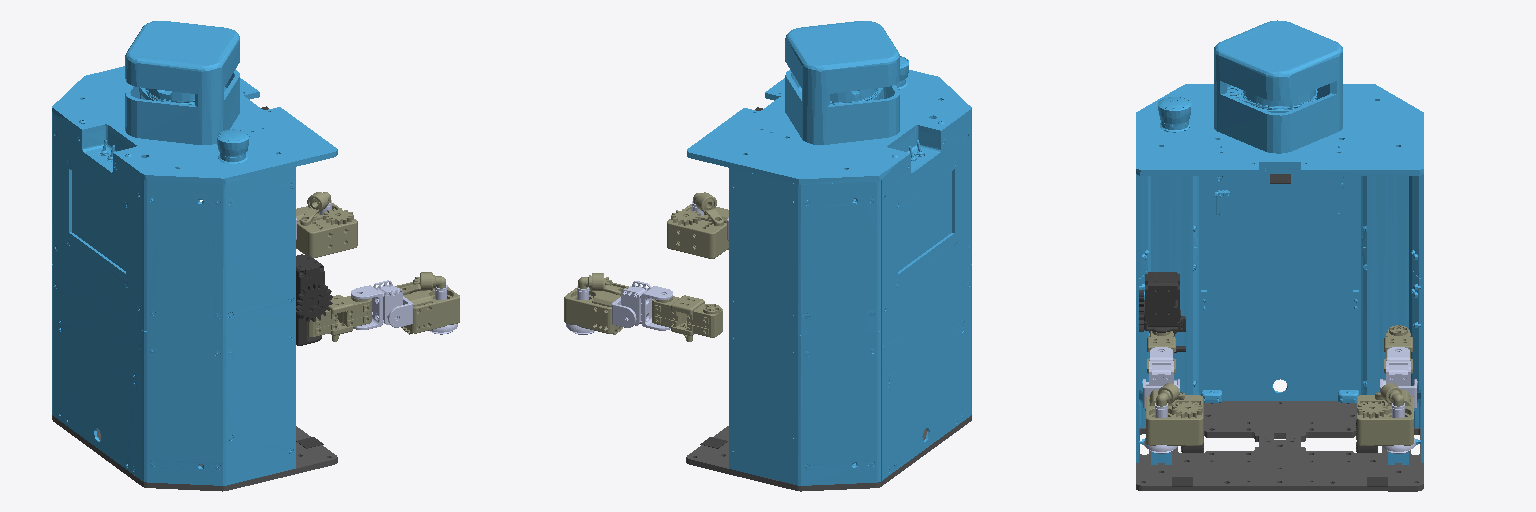
URDF robot description (robotrouge):
<?xml version="1.0" ?>
<!-- =================================================================================== -->
<!-- |    This document was autogenerated by xacro from urdf/robotrouge.urdf.xacro     | -->
<!-- |    EDITING THIS FILE BY HAND IS NOT RECOMMENDED                                 | -->
<!-- =================================================================================== -->
<robot name="robotrouge">
  <material name="arm_yellow">
    <color rgba="0.619607843137255 0.619607843137255 0.517647058823529 1"/>
  </material>
  <material name="arm_gray">
    <color rgba="0.792156862745098 0.819607843137255 0.933333333333333 1"/>
  </material>
  <!-- Init colour -->
  <material name="black">
    <color rgba="0.0 0.0 0.0 1.0"/>
  </material>
  <material name="dark">
    <color rgba="0.3 0.3 0.3 1.0"/>
  </material>
  <material name="light_black">
    <color rgba="0.4 0.4 0.4 1.0"/>
  </material>
  <material name="blue">
    <color rgba="0.0 0.0 0.8 1.0"/>
  </material>
  <material name="green">
    <color rgba="0.0 0.8 0.0 1.0"/>
  </material>
  <material name="grey">
    <color rgba="0.5 0.5 0.5 1.0"/>
  </material>
  <material name="orange">
    <color rgba="1.0 0.4235 0.0392 1.0"/>
  </material>
  <material name="brown">
    <color rgba="0.8706 0.8118 0.7647 1.0"/>
  </material>
  <material name="red">
    <color rgba="0.8 0.0 0.0 1.0"/>
  </material>
  <material name="white">
    <color rgba="1.0 1.0 1.0 1.0"/>
  </material>
  <link name="base_footprint"/>
  <joint name="base_joint" type="fixed">
    <parent link="base_footprint"/>
    <child link="base_link"/>
    <origin rpy="0 0 0" xyz="0.0 0.0 0.01416"/>
  </joint>
  <link name="base_link">
    <visual>
      <!-- <origin xyz="-0.032 0 0.0147" rpy="0 0 0"/> -->
      <origin rpy="0 0 3.14" xyz="0 0 -0.003"/>
      <geometry>
        <!-- <box size="0.140 0.140 0.143"/> -->
        <mesh filename="package://jrb_description/meshes/base.STL"/>
      </geometry>
      <material name="light_black"/>
    </visual>
    <visual>
      <origin rpy="0 0 0" xyz="0 0 0"/>
      <geometry>
        <mesh filename="package://jrb_description/meshes/carter.STL"/>
      </geometry>
    </visual>
  </link>
  <joint name="wheel_left_joint" type="continuous">
    <parent link="base_link"/>
    <child link="wheel_left_link"/>
    <origin rpy="-1.57 0 0" xyz="0.0 0.08316 0"/>
    <axis xyz="0 0 1"/>
  </joint>
  <link name="wheel_left_link">
    <visual>
      <origin rpy="1.57 0 0" xyz="0 0 0"/>
      <geometry>
        <!-- <cylinder length="0.020" radius="0.0254"/> -->
        <mesh filename="package://jrb_description/meshes/roue.STL"/>
      </geometry>
      <material name="dark"/>
    </visual>
  </link>
  <joint name="wheel_right_joint" type="continuous">
    <parent link="base_link"/>
    <child link="wheel_right_link"/>
    <origin rpy="-1.57 0 0" xyz="0.0 -0.08316  0.0"/>
    <axis xyz="0 0 1"/>
  </joint>
  <link name="wheel_right_link">
    <visual>
      <origin rpy="1.57 0 0" xyz="0 0 0"/>
      <geometry>
        <!-- <cylinder length="0.018" radius="0.0254"/> -->
        <mesh filename="package://jrb_description/meshes/roue.STL"/>
      </geometry>
      <material name="dark"/>
    </visual>
    <inertial>
      <origin xyz="0 0 0"/>
      <mass value="2.8498940e-02"/>
      <inertia ixx="1.1175580e-05" ixy="-4.2369783e-11" ixz="-5.9381719e-09" iyy="1.1192413e-05" iyz="-1.4400107e-11" izz="2.0712558e-05"/>
    </inertial>
  </link>
  <joint name="left_tag_joint" type="fixed">
    <parent link="base_link"/>
    <child link="left_tag_link"/>
    <origin rpy="0 0 0" xyz="0.091 0.0925 0.0"/>
  </joint>
  <link name="left_tag_link">
    <visual>
      <origin rpy="0 0 0" xyz="0 0 0"/>
      <geometry>
        <box size="0.02 0.02 0.001"/>
      </geometry>
      <material name="dark"/>
    </visual>
  </link>
  <joint name="right_tag_joint" type="fixed">
    <parent link="base_link"/>
    <child link="right_tag_link"/>
    <origin rpy="0 0 0" xyz="0.091 -0.0925 0.0"/>
  </joint>
  <link name="right_tag_link">
    <visual>
      <origin rpy="0 0 0" xyz="0 0 0"/>
      <geometry>
        <box size="0.02 0.02 0.001"/>
      </geometry>
      <material name="dark"/>
    </visual>
  </link>
  <joint name="th_camera_joint" type="fixed">
    <parent link="base_link"/>
    <child link="th_camera_link"/>
    <origin rpy="0 0 0" xyz="0.091 0.0 0.3183"/>
  </joint>
  <link name="th_camera_link">
    <visual>
      <origin rpy="0 0 0" xyz="0 0 0"/>
      <geometry>
        <box size="0.02 0.02 0.001"/>
      </geometry>
      <material name="dark"/>
    </visual>
  </link>
  <!-- Arms -->
  <link name="left_arm_base_link">
    <visual>
      <origin rpy="0 0 0" xyz="0 0 0"/>
      <geometry>
        <mesh filename="package://jrb_description/meshes/left_arm_base_link.STL"/>
      </geometry>
      <material name="arm_black">
        <color rgba="0.298039215686275 0.298039215686275 0.298039215686275 1"/>
      </material>
    </visual>
  </link>
  <joint name="left_arm_joint" type="prismatic">
    <parent link="base_link"/>
    <child link="left_arm_base_link"/>
    <origin rpy="0 0 0" xyz="0.054 0.11275 0.141375"/>
    <axis xyz="0 0 1"/>
    <limit effort="30" lower="-0.056" upper="0.056" velocity="1.0"/>
  </joint>
  <link name="left_b">
    <visual>
      <origin rpy="0 0 0" xyz="0 0 0"/>
      <geometry>
        <mesh filename="package://jrb_description/meshes/left_bras.STL"/>
      </geometry>
      <material name="arm_yellow"/>
    </visual>
  </link>
  <joint name="left_b_joint" type="continuous">
    <origin rpy="0 0 0" xyz="0.02814995 0 0"/>
    <parent link="left_arm_base_link"/>
    <child link="left_b"/>
    <axis xyz="0 0 1"/>
  </joint>
  <link name="left_c">
    <visual>
      <origin rpy="0 0 0" xyz="0 0 0"/>
      <geometry>
        <mesh filename="package://jrb_description/meshes/left_avant_bras.STL"/>
      </geometry>
      <material name="arm_gray"/>
    </visual>
  </link>
  <joint name="left_c_joint" type="continuous">
    <origin rpy="0 0 0" xyz="0.054 0 0"/>
    <parent link="left_b"/>
    <child link="left_c"/>
    <axis xyz="0 0 -1"/>
  </joint>
  <link name="left_d">
    <visual>
      <origin rpy="0 0 0" xyz="0 0 0"/>
      <geometry>
        <mesh filename="package://jrb_description/meshes/poignet.STL"/>
      </geometry>
      <material name="arm_gray"/>
    </visual>
  </link>
  <joint name="left_d_joint" type="continuous">
    <origin rpy="0 0 0" xyz="0.031 0 -0.009"/>
    <parent link="left_c"/>
    <child link="left_d"/>
    <axis xyz="0 1 0"/>
  </joint>
  <link name="left_e">
    <visual>
      <origin rpy="0 0 0" xyz="0 0 0"/>
      <geometry>
        <mesh filename="package://jrb_description/meshes/left_prehenseur.STL"/>
      </geometry>
      <material name="arm_yellow"/>
    </visual>
  </link>
  <joint name="left_e_joint" type="continuous">
    <origin rpy="0 0 0" xyz="0.0319 0 0"/>
    <parent link="left_d"/>
    <child link="left_e"/>
    <axis xyz="0  0 1"/>
  </joint>
  <link name="left_f">
    <visual>
      <origin rpy="0 0 0" xyz="0 0 0"/>
      <geometry>
        <mesh filename="package://jrb_description/meshes/ventouse.STL"/>
      </geometry>
      <material name="arm_gray"/>
    </visual>
  </link>
  <joint name="left_f_joint" type="continuous">
    <origin rpy="0 0 0" xyz="0.02824 0 -0.029448"/>
    <parent link="left_e"/>
    <child link="left_f"/>
    <axis xyz="0 0 1"/>
  </joint>
  <link name="right_arm_base_link">
    <visual>
      <origin rpy="0 0 0" xyz="0 0 0"/>
      <geometry>
        <mesh filename="package://jrb_description/meshes/right_arm_base_link.STL"/>
      </geometry>
      <material name="arm_black">
        <color rgba="0.298039215686275 0.298039215686275 0.298039215686275 1"/>
      </material>
    </visual>
  </link>
  <joint name="right_arm_joint" type="prismatic">
    <parent link="base_link"/>
    <child link="right_arm_base_link"/>
    <origin rpy="0 0 0" xyz="0.054 -0.11275 0.141375"/>
    <axis xyz="0 0 1"/>
    <limit effort="30" lower="-0.056" upper="0.056" velocity="1.0"/>
  </joint>
  <link name="right_b">
    <visual>
      <origin rpy="0 0 0" xyz="0 0 0"/>
      <geometry>
        <mesh filename="package://jrb_description/meshes/right_bras.STL"/>
      </geometry>
      <material name="arm_yellow"/>
    </visual>
  </link>
  <joint name="right_b_joint" type="continuous">
    <origin rpy="0 0 0" xyz="0.02814995 0 0"/>
    <parent link="right_arm_base_link"/>
    <child link="right_b"/>
    <axis xyz="0 0 1"/>
  </joint>
  <link name="right_c">
    <visual>
      <origin rpy="0 0 0" xyz="0 0 0"/>
      <geometry>
        <mesh filename="package://jrb_description/meshes/right_avant_bras.STL"/>
      </geometry>
      <material name="arm_gray"/>
    </visual>
  </link>
  <joint name="right_c_joint" type="continuous">
    <origin rpy="0 0 0" xyz="0.054 0 0"/>
    <parent link="right_b"/>
    <child link="right_c"/>
    <axis xyz="0 0 -1"/>
  </joint>
  <link name="right_d">
    <visual>
      <origin rpy="0 0 0" xyz="0 0 0"/>
      <geometry>
        <mesh filename="package://jrb_description/meshes/poignet.STL"/>
      </geometry>
      <material name="arm_gray"/>
    </visual>
  </link>
  <joint name="right_d_joint" type="continuous">
    <origin rpy="0 0 0" xyz="0.031 0 -0.009"/>
    <parent link="right_c"/>
    <child link="right_d"/>
    <axis xyz="0 1 0"/>
  </joint>
  <link name="right_e">
    <visual>
      <origin rpy="0 0 0" xyz="0 0 0"/>
      <geometry>
        <mesh filename="package://jrb_description/meshes/right_prehenseur.STL"/>
      </geometry>
      <material name="arm_yellow"/>
    </visual>
  </link>
  <joint name="right_e_joint" type="continuous">
    <origin rpy="0 0 0" xyz="0.0319 0 0"/>
    <parent link="right_d"/>
    <child link="right_e"/>
    <axis xyz="0  0 1"/>
  </joint>
  <link name="right_f">
    <visual>
      <origin rpy="0 0 0" xyz="0 0 0"/>
      <geometry>
        <mesh filename="package://jrb_description/meshes/ventouse.STL"/>
      </geometry>
      <material name="arm_gray"/>
    </visual>
  </link>
  <joint name="right_f_joint" type="continuous">
    <origin rpy="0 0 0" xyz="0.02824 0 -0.029448"/>
    <parent link="right_e"/>
    <child link="right_f"/>
    <axis xyz="0 0 1"/>
  </joint>
</robot>

--- What the picture shows (computed from the rendered views, not written in the file) ---
Views: 3 orthographic renders of the robot side by side, from view 1: azimuth 30°, elevation 25°; view 2: azimuth 150°, elevation 25°; view 3: azimuth 270°, elevation 25°.
Robot: robotrouge — 19 links, 18 joints (12 continuous, 2 prismatic, 4 fixed); root link base_footprint; default pose: every joint at zero.
Links seen in each view (by area): view 1: base_link, left_e, right_e, right_arm_base_link, right_b, right_c, right_d; view 2: base_link, right_e, left_e, left_b, left_c; view 3: base_link, right_e, left_e, right_arm_base_link, left_c, right_c, left_b, right_b.
Boxes of the visible links, left/top/right/bottom form: base_link: left=52, top=21, right=337, bottom=491; left_e: left=296, top=192, right=357, bottom=257; right_e: left=395, top=272, right=459, bottom=334; right_arm_base_link: left=296, top=254, right=332, bottom=345; right_b: left=307, top=295, right=371, bottom=341; right_c: left=351, top=280, right=402, bottom=329; right_d: left=387, top=296, right=412, bottom=327; base_link: left=686, top=21, right=971, bottom=491; right_e: left=667, top=192, right=728, bottom=258; left_e: left=564, top=273, right=628, bottom=334; left_b: left=652, top=295, right=722, bottom=341; left_c: left=621, top=281, right=672, bottom=330; base_link: left=1136, top=20, right=1423, bottom=491; right_e: left=1146, top=383, right=1203, bottom=445; left_e: left=1357, top=383, right=1413, bottom=445; right_arm_base_link: left=1139, top=272, right=1185, bottom=352; left_c: left=1383, top=347, right=1410, bottom=385; right_c: left=1149, top=347, right=1176, bottom=385; left_b: left=1384, top=325, right=1412, bottom=373; right_b: left=1147, top=331, right=1175, bottom=373.
Bounding box of the posed robot: 0.3389 × 0.2742 × 0.4405 m (x, y, z).
Meshes: 13 distinct files referenced, 15 mesh visuals loaded (12 binary STL); not drawn: 1 (reference not matched to a file when rendering).
